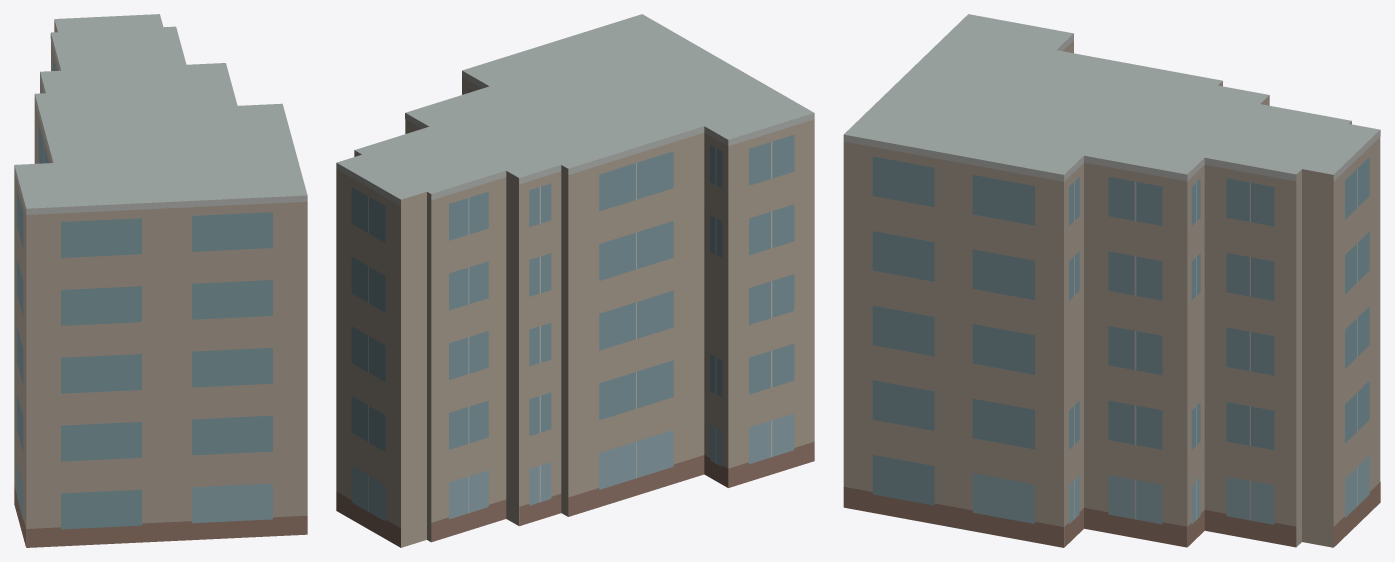
Rendered from survey-upis-32924798.glb.
3 views of the same model, side by side, from view 1: azimuth 30°, elevation 25°; view 2: azimuth 150°, elevation 25°; view 3: azimuth 270°, elevation 25° (orthographic). The views are drawn at different scales.
Parts seen in each view (by area): view 1: survey-upis-32924798.tmp; view 2: survey-upis-32924798.tmp; view 3: survey-upis-32924798.tmp.
Part boxes in pixels (left/top/right/bottom): survey-upis-32924798.tmp: left=14, top=14, right=307, bottom=547; survey-upis-32924798.tmp: left=336, top=14, right=814, bottom=547; survey-upis-32924798.tmp: left=843, top=14, right=1380, bottom=547.
Size of the model in its own units: 12.23 by 13.2 by 17.23.
